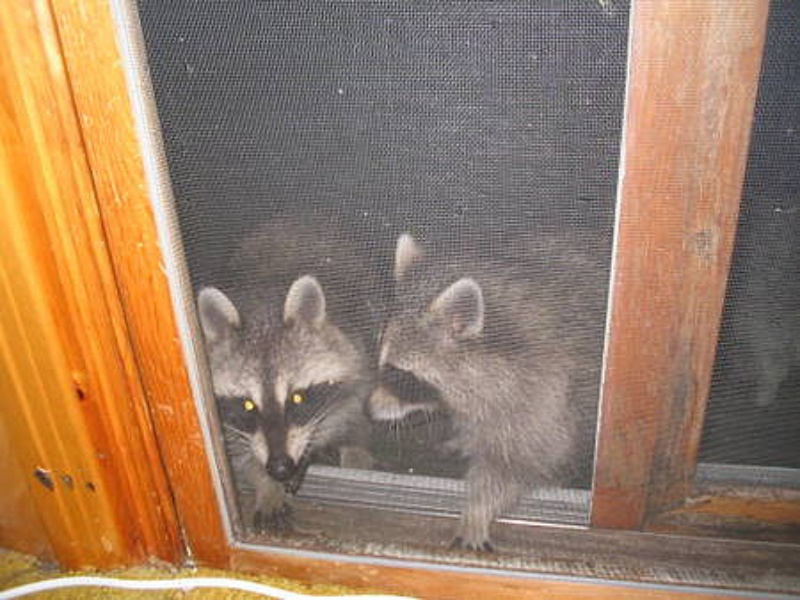raccoon: (366, 172, 800, 555), (181, 199, 383, 536)
